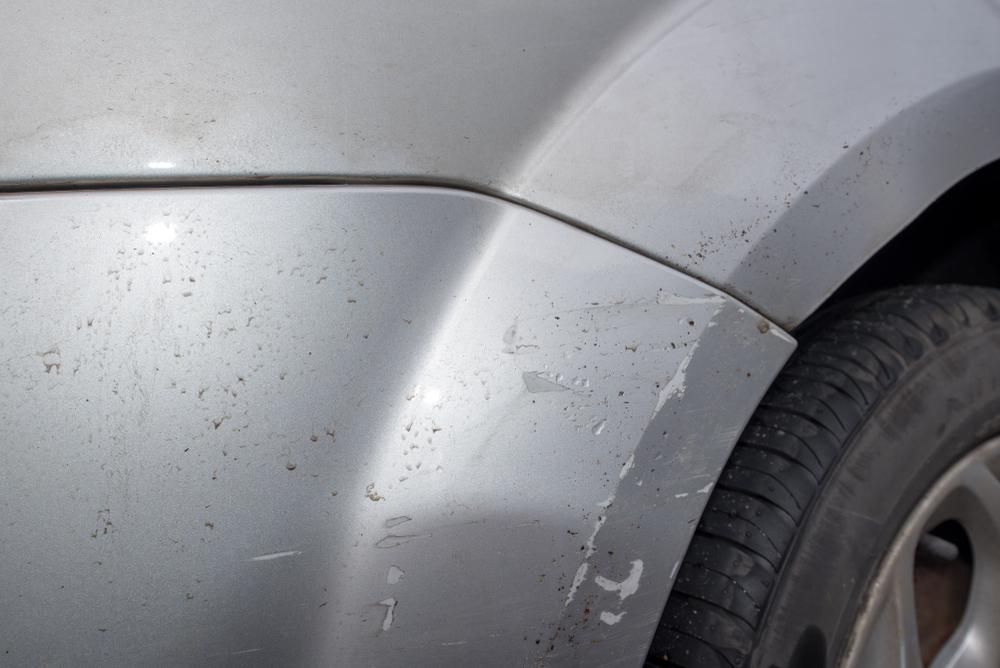scratch: (211, 289, 789, 668)
